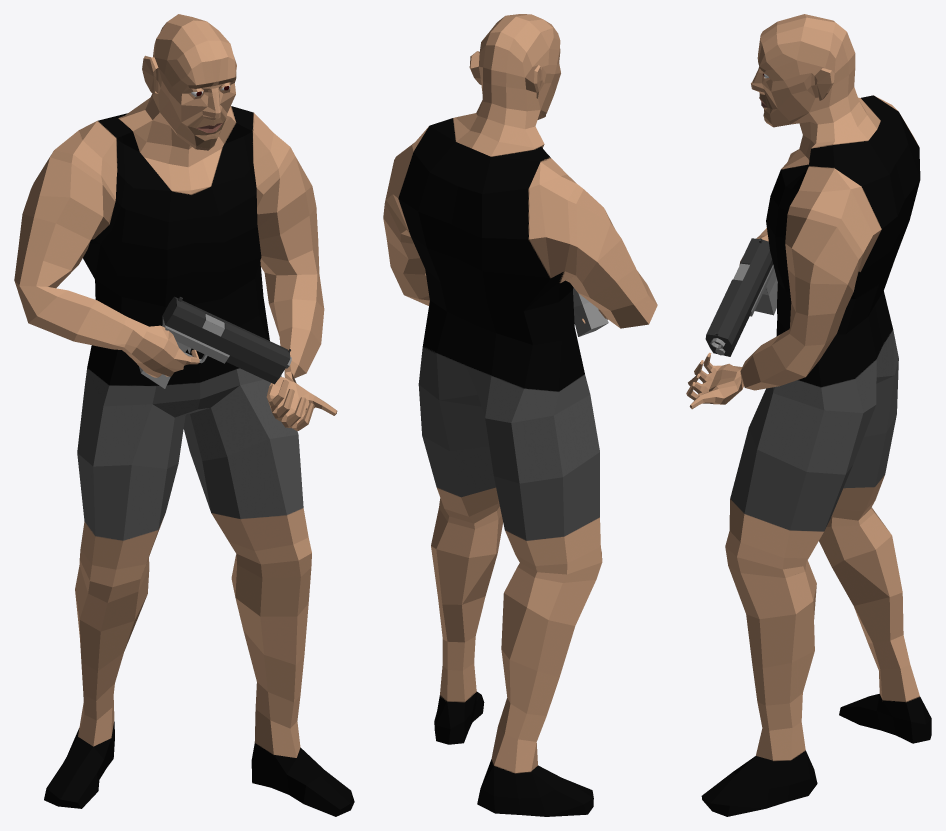
The model's file is PlayerIdle(207).obj.
3 views of the same model, side by side, from view 1: azimuth 30°, elevation 25°; view 2: azimuth 150°, elevation 25°; view 3: azimuth 270°, elevation 25° (orthographic). The views are drawn at different scales.
Parts seen in each view (by area): view 1: Plane002, Box003; view 2: Plane002, Box003; view 3: Plane002, Box003.
Part boxes in pixels (<box>): Plane002: <box>14,14,354,816</box>; Box003: <box>139,296,291,388</box>; Plane002: <box>383,14,657,816</box>; Box003: <box>573,288,608,336</box>; Plane002: <box>686,14,931,816</box>; Box003: <box>705,238,777,356</box>.
Size of the model in its own units: 680 by 1797 by 538.
